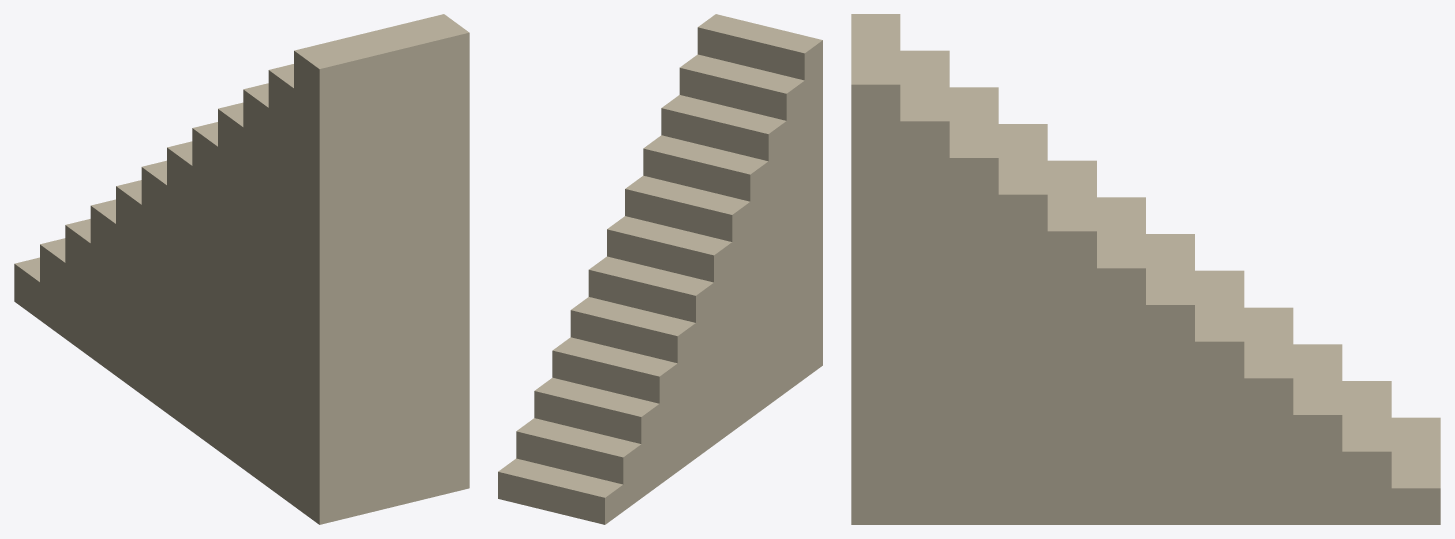
Rendered from stairsStone.glb.
The picture shows the model from 3 angles, left to right: view 1: azimuth 30°, elevation 25°; view 2: azimuth 150°, elevation 25°; view 3: azimuth 270°, elevation 25°; orthographic projection. The views are drawn at different scales.
Parts seen in each view (by area): view 1: mesh_0; view 2: mesh_0; view 3: mesh_0.
Boxes of the visible parts, bbox=[...] form: mesh_0: bbox=[14, 14, 469, 524]; mesh_0: bbox=[498, 14, 822, 524]; mesh_0: bbox=[851, 14, 1440, 524].
Bounding box in the file's own units: 2.33 × 6.75 × 8.19.
